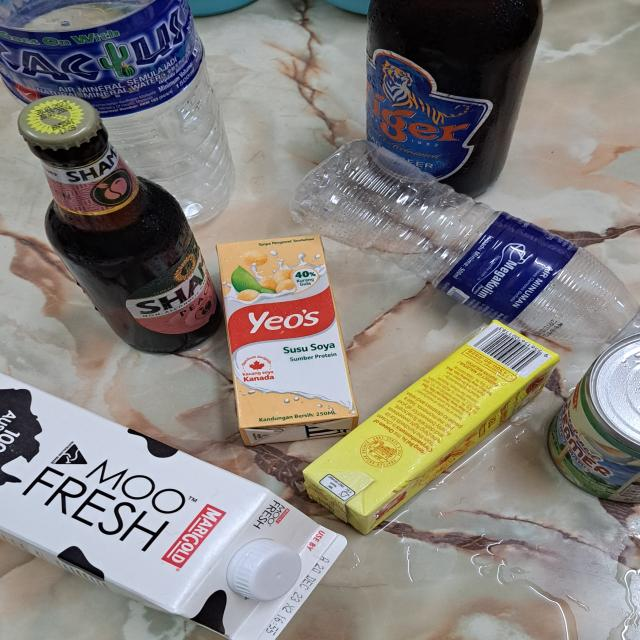can: (551, 333, 640, 509)
drink carton: (0, 370, 348, 640), (296, 320, 559, 518), (218, 236, 356, 446)
glass bottle: (17, 96, 225, 354), (362, 0, 537, 195)
plastic bottle: (300, 135, 638, 342), (0, 0, 240, 234)
plastic bottle cap: (228, 539, 302, 605)
